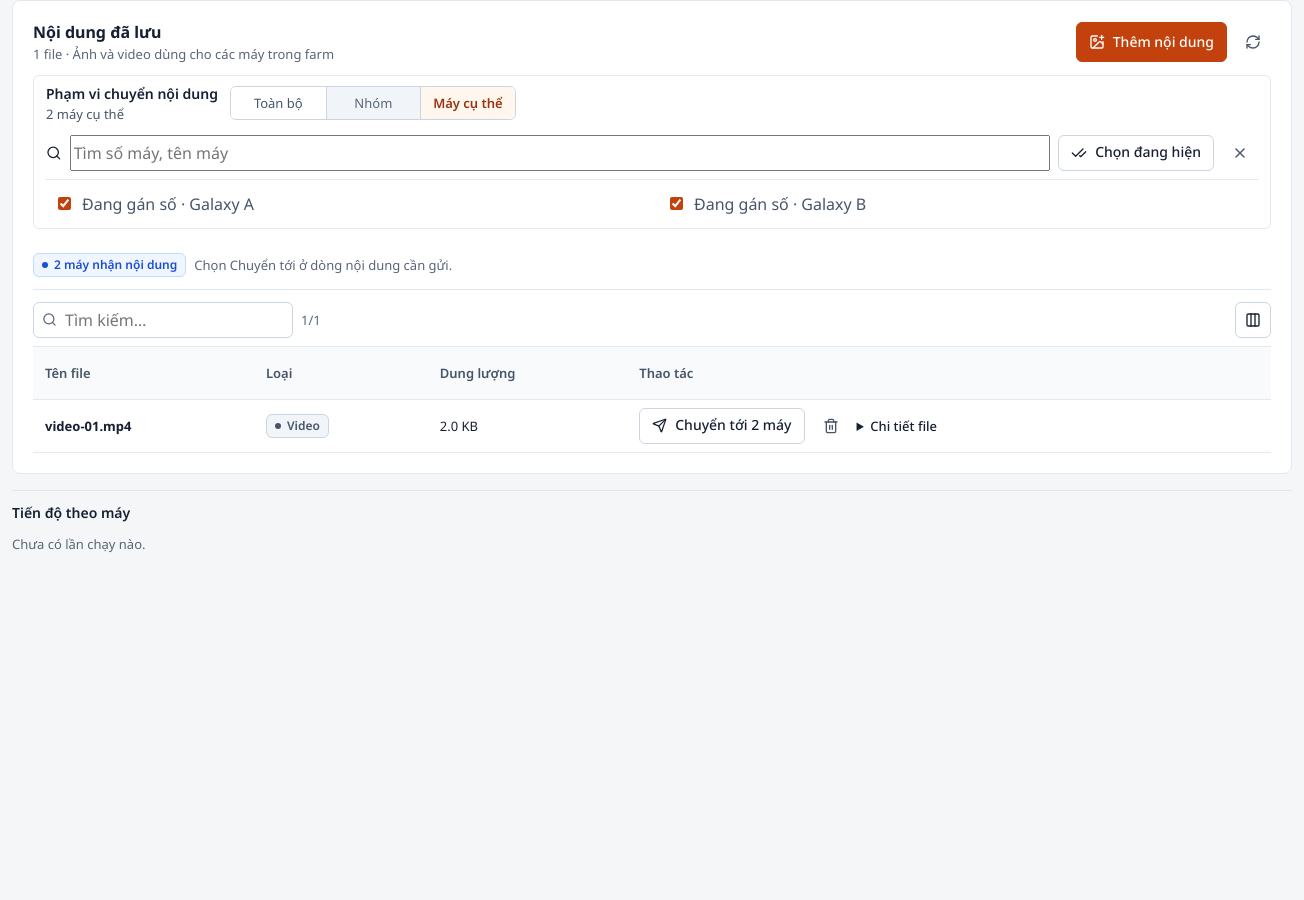
Test: MaterialPage list states › sends the whole selected target and renders isolated device results
Click the button "Chuyển tới 2 máy": {"x": 722, "y": 426} [639,408,804,444]
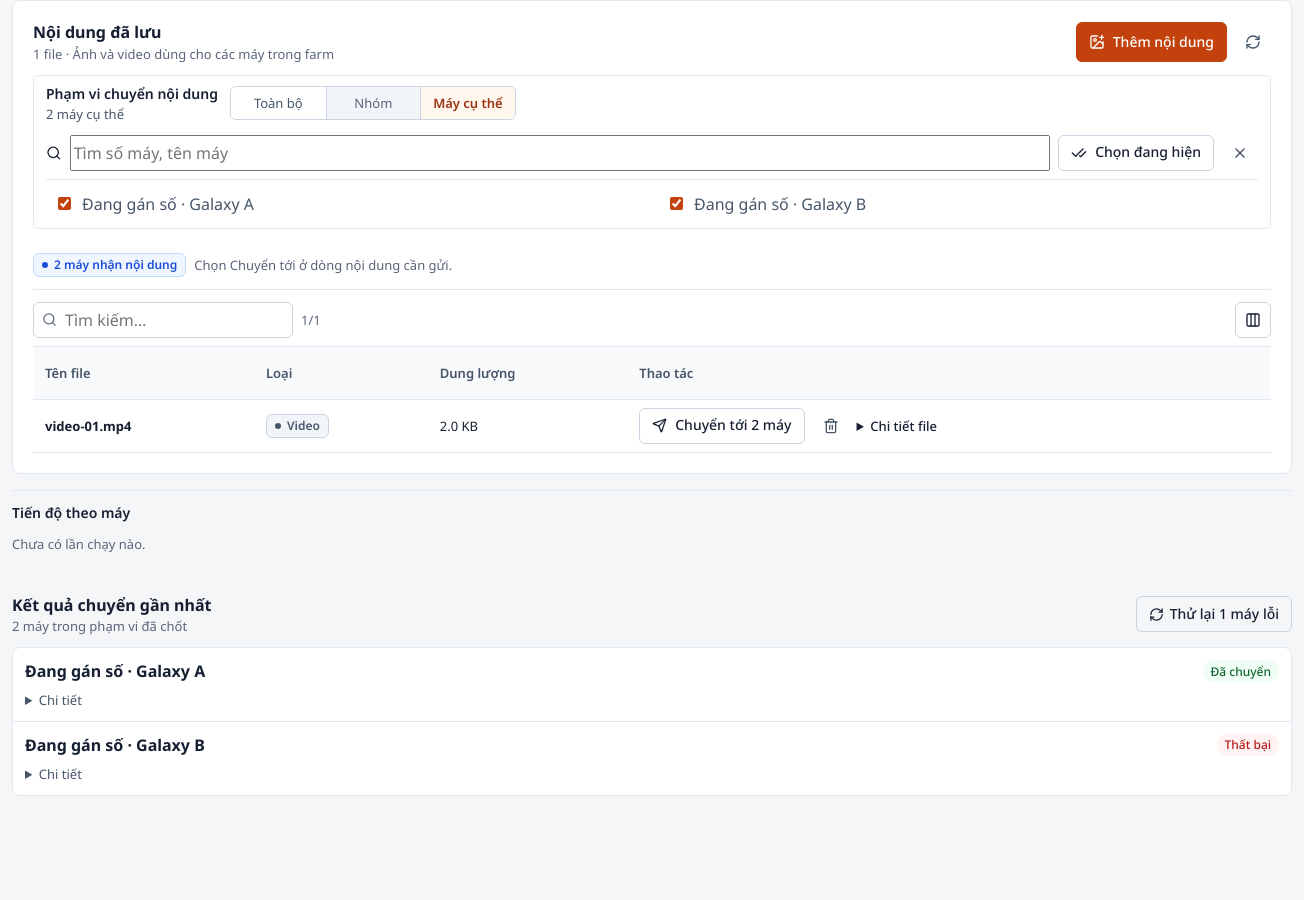
Result: the text "Đang gán số · Galaxy A" in the row of "Đã chuyển" is shown at [25,660,205,682]
Result: the text "Đang gán số · Galaxy B" in the row of "Thất bại" is shown at [25,734,205,756]
Result: the text "Thất bại" is shown at [1217,734,1279,756]
Click the button "Thử lại 1 máy lỗi": {"x": 1214, "y": 614} [1136,596,1292,632]
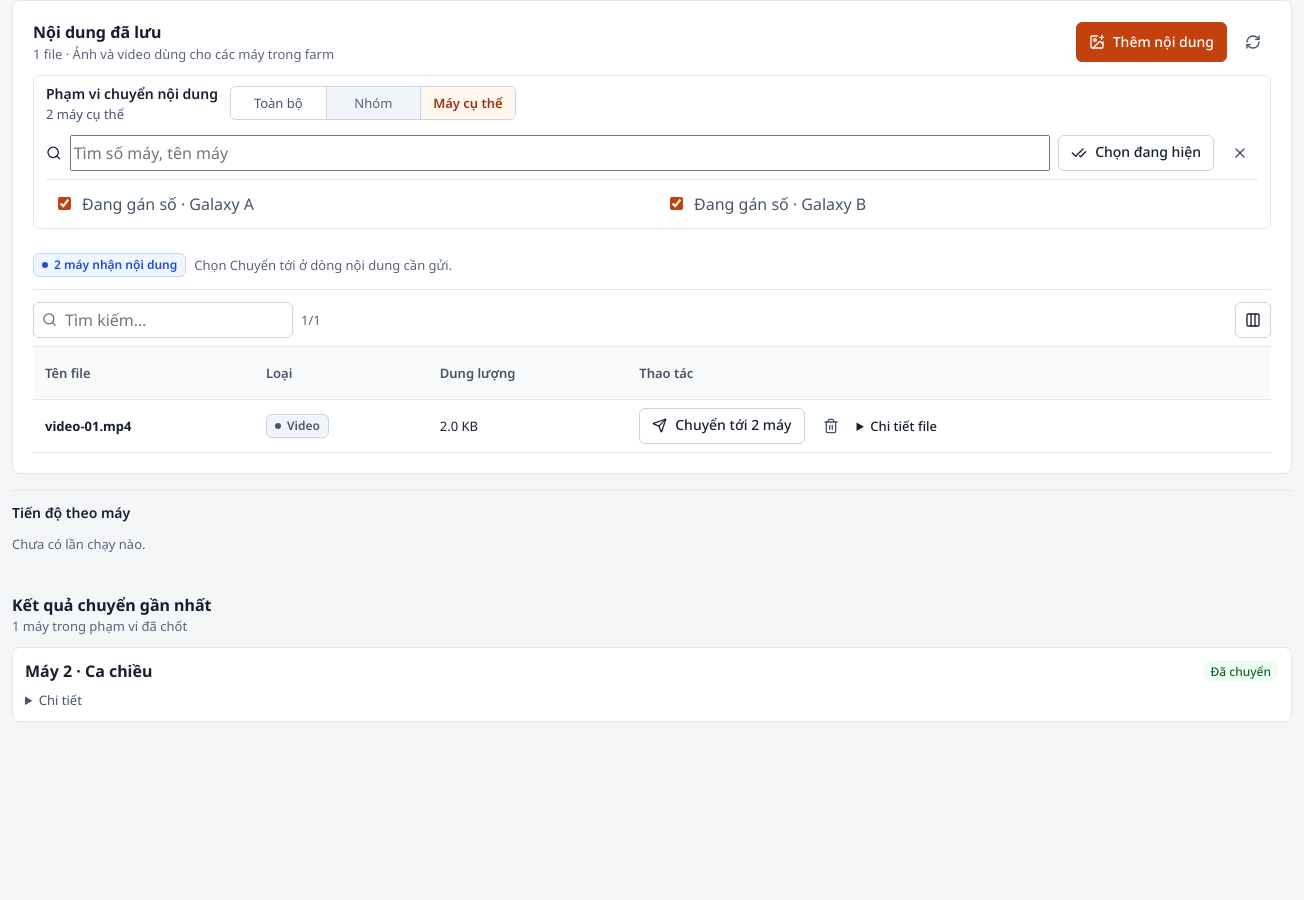
Result: the text "Máy 2 · Ca chiều" is shown at [25,660,152,682]
Result: the button "Thử lại 1 máy lỗi" is gone
